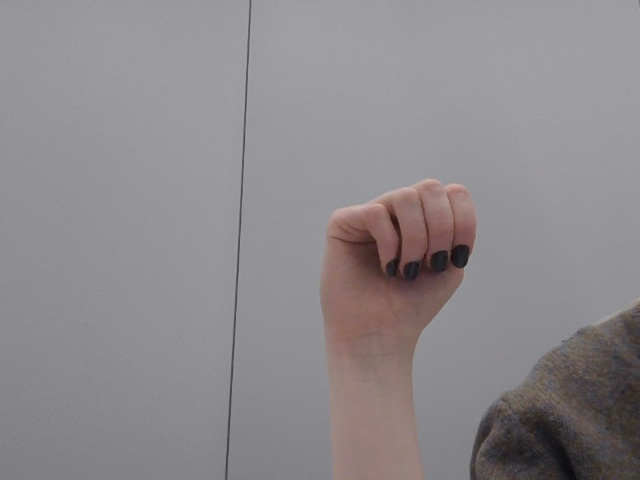down: (292, 167, 486, 391)
